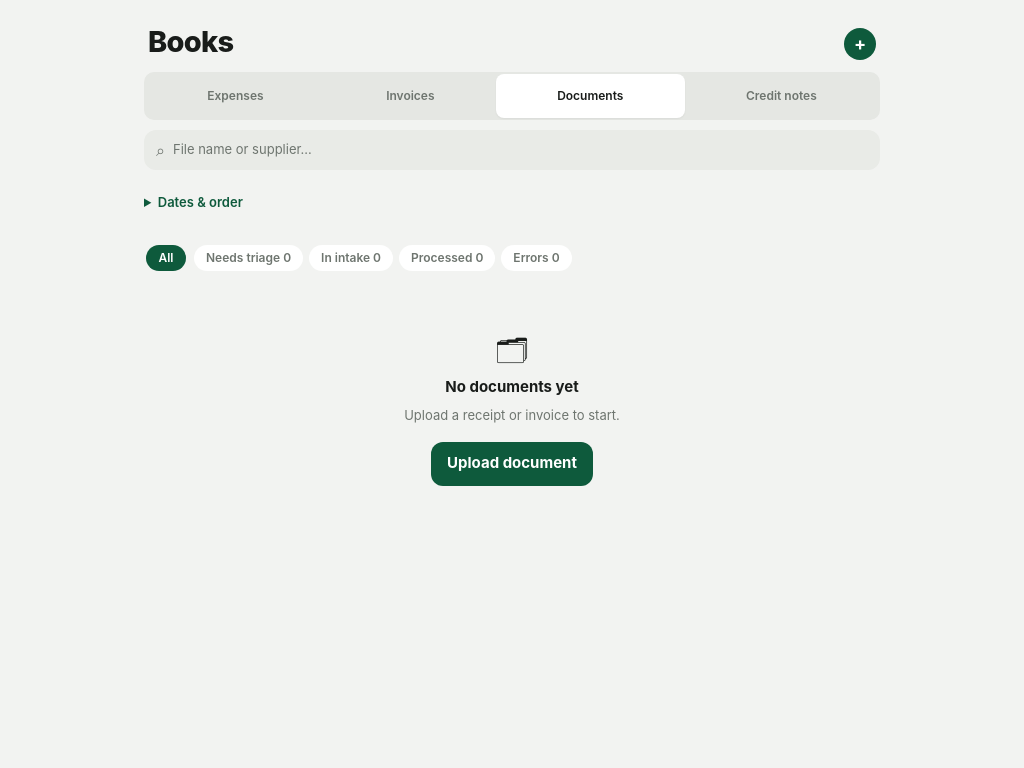
Scenario: Books empty states (issue #280) › Documents initial empty offers Upload document
Check: the text "No documents yet" is shown, box [445,376,579,398]
Click the button "Upload document" at (512, 464), box [431,442,593,486]
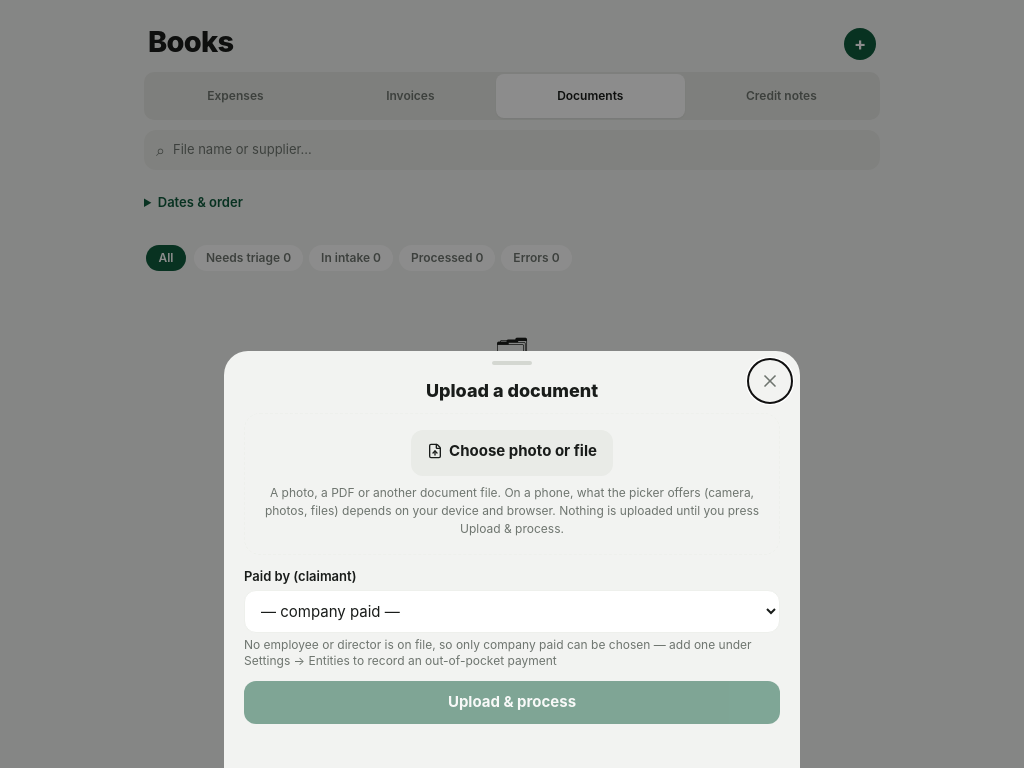
Check: the dialog "Upload a document" is shown, box [224,351,800,767]
